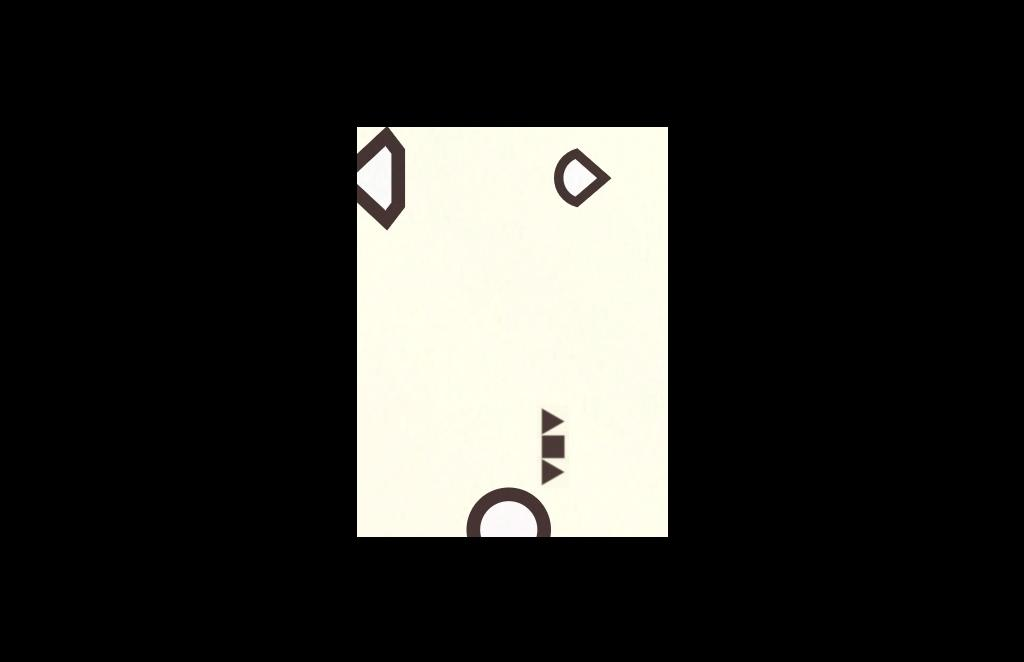unconnected_station: (436, 459, 568, 536), (356, 126, 440, 246), (541, 144, 635, 216)
